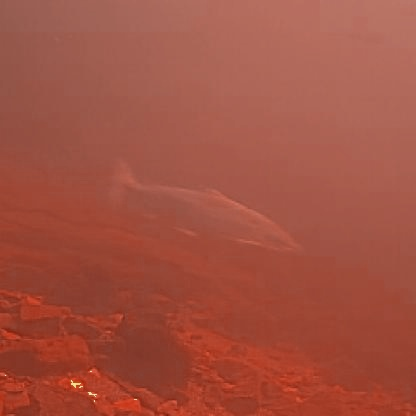salmon: (95, 151, 302, 253)
